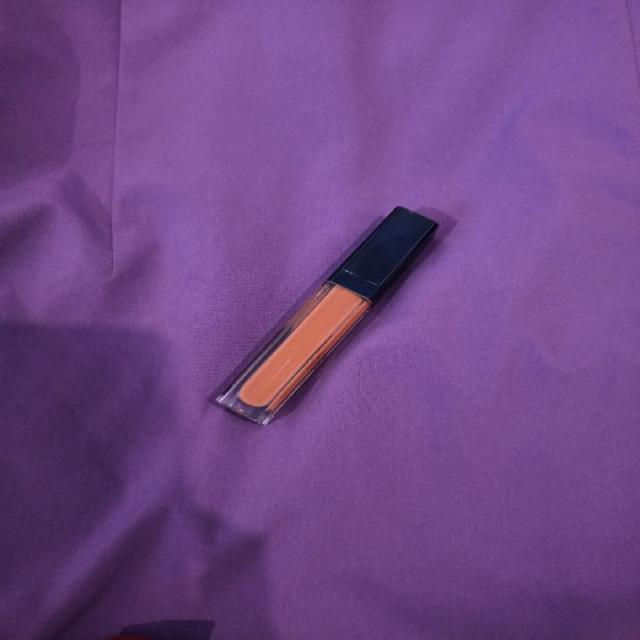lipstick: (207, 204, 438, 426)
